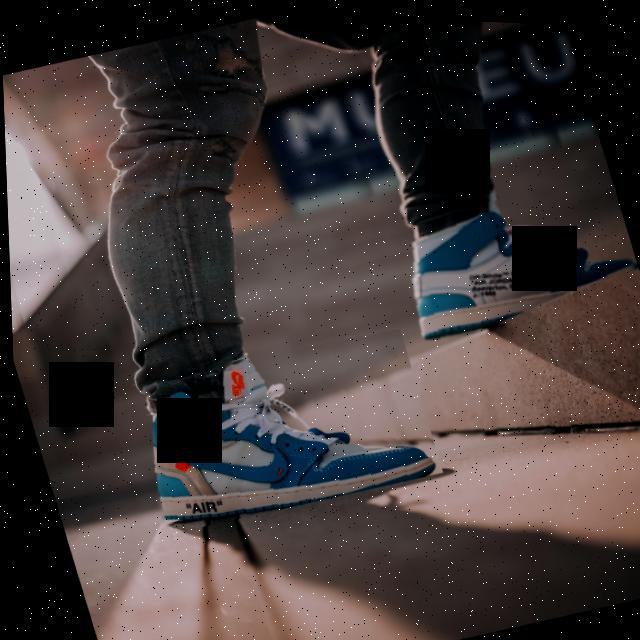shoe: (112, 306, 441, 544), (380, 149, 640, 348)
